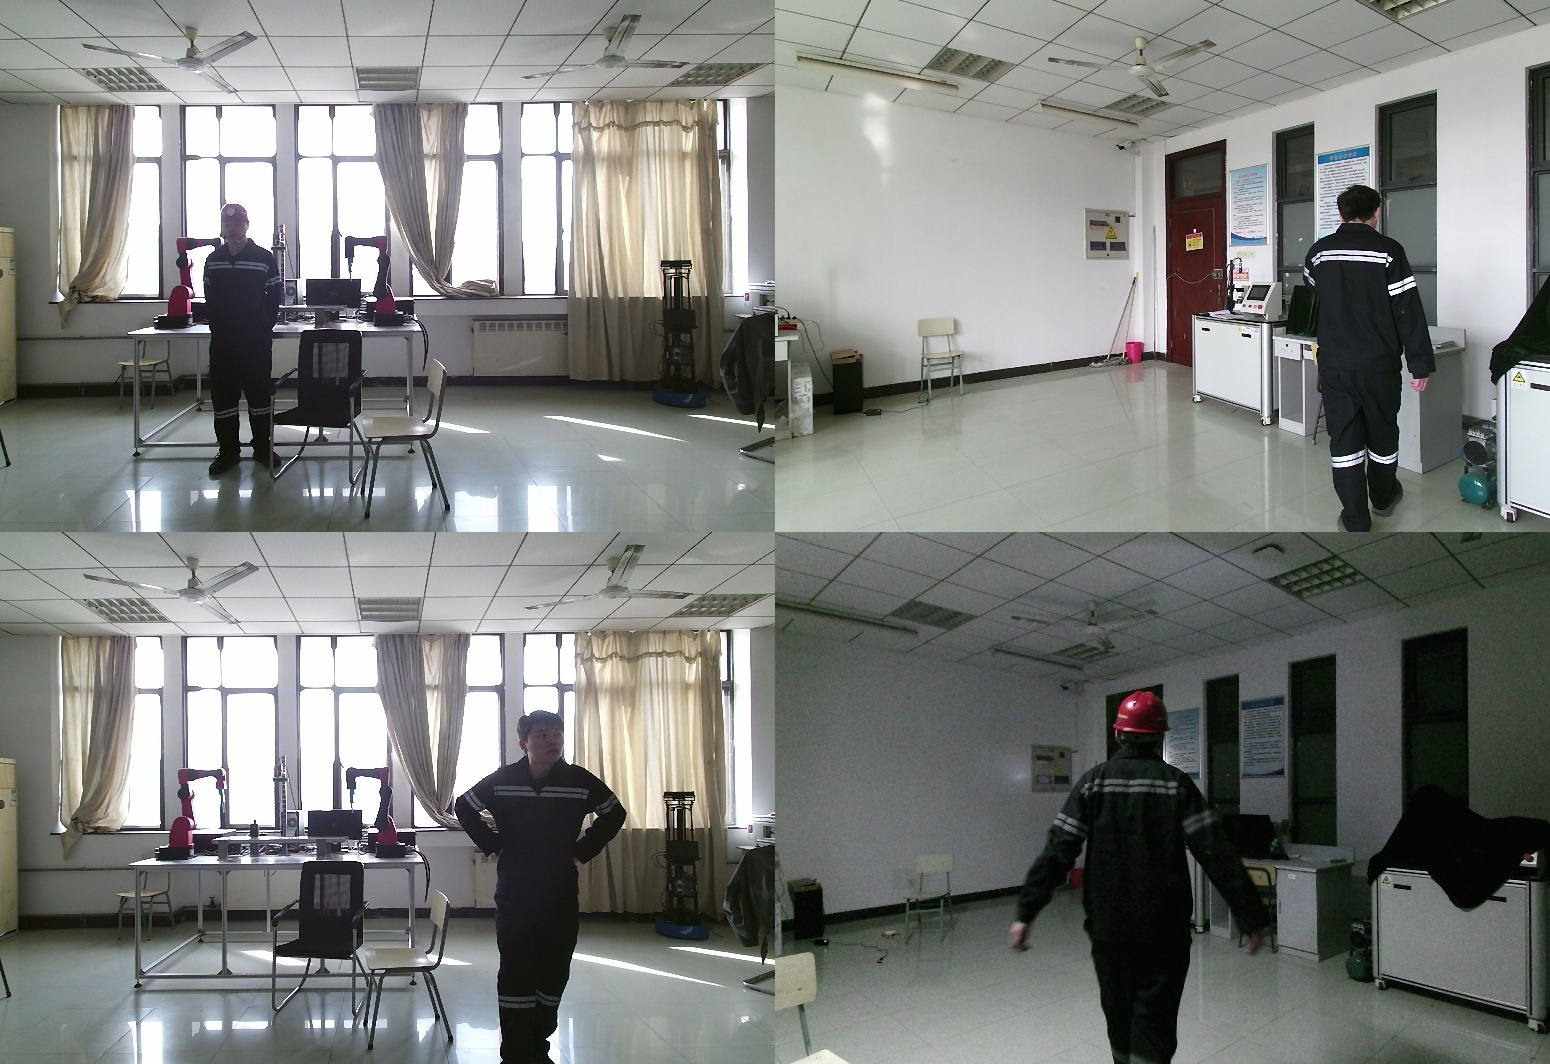person: (1007, 688, 1301, 1064), (459, 715, 639, 1063), (1299, 189, 1450, 532), (204, 205, 289, 478)
